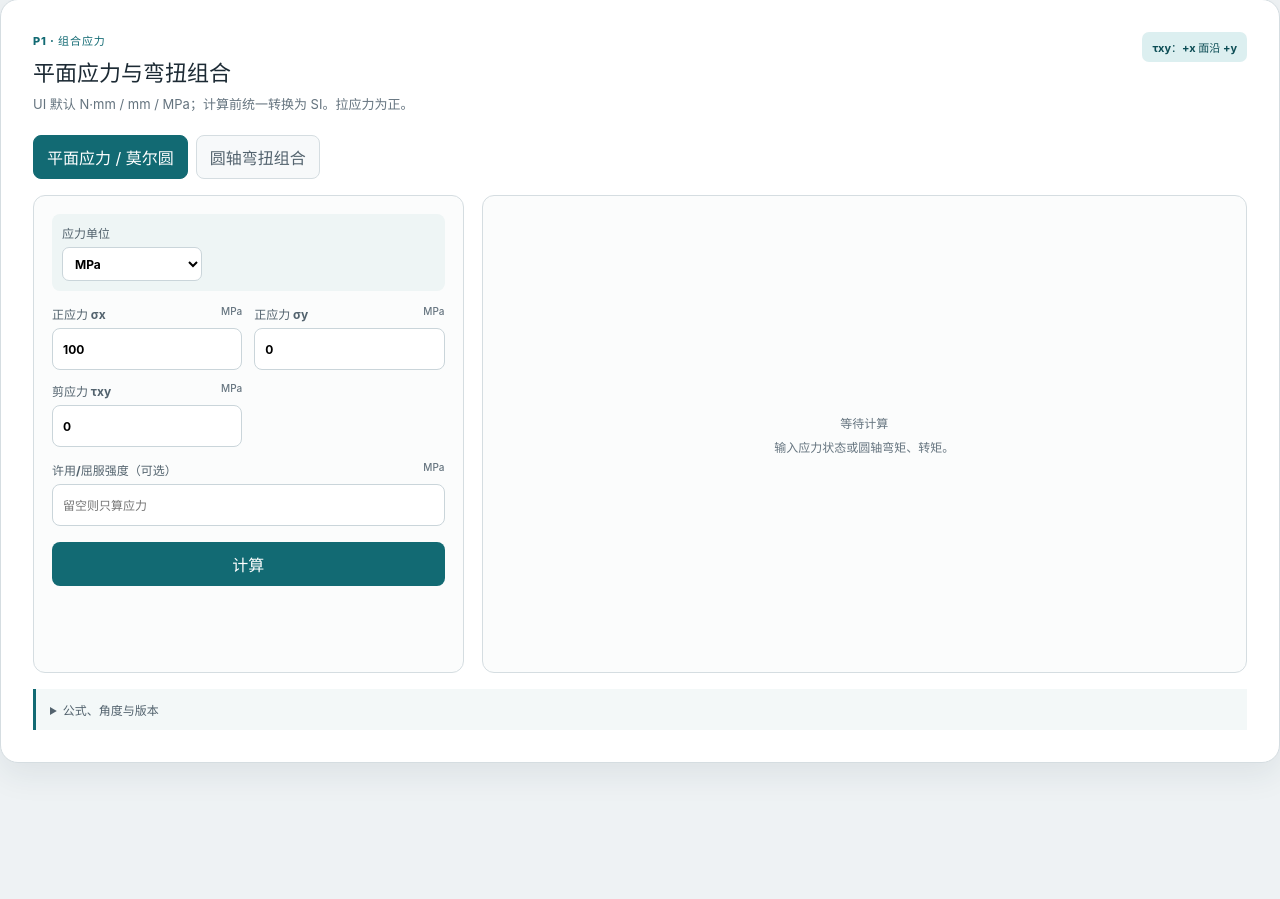
Test: StressCalculator › renders plane stress results and labelled Mohr circle
The width and height of the screenshot is (1280, 899).
Click the button with class "calculate": (248,564) [52,542,444,586]
(page scrolled)
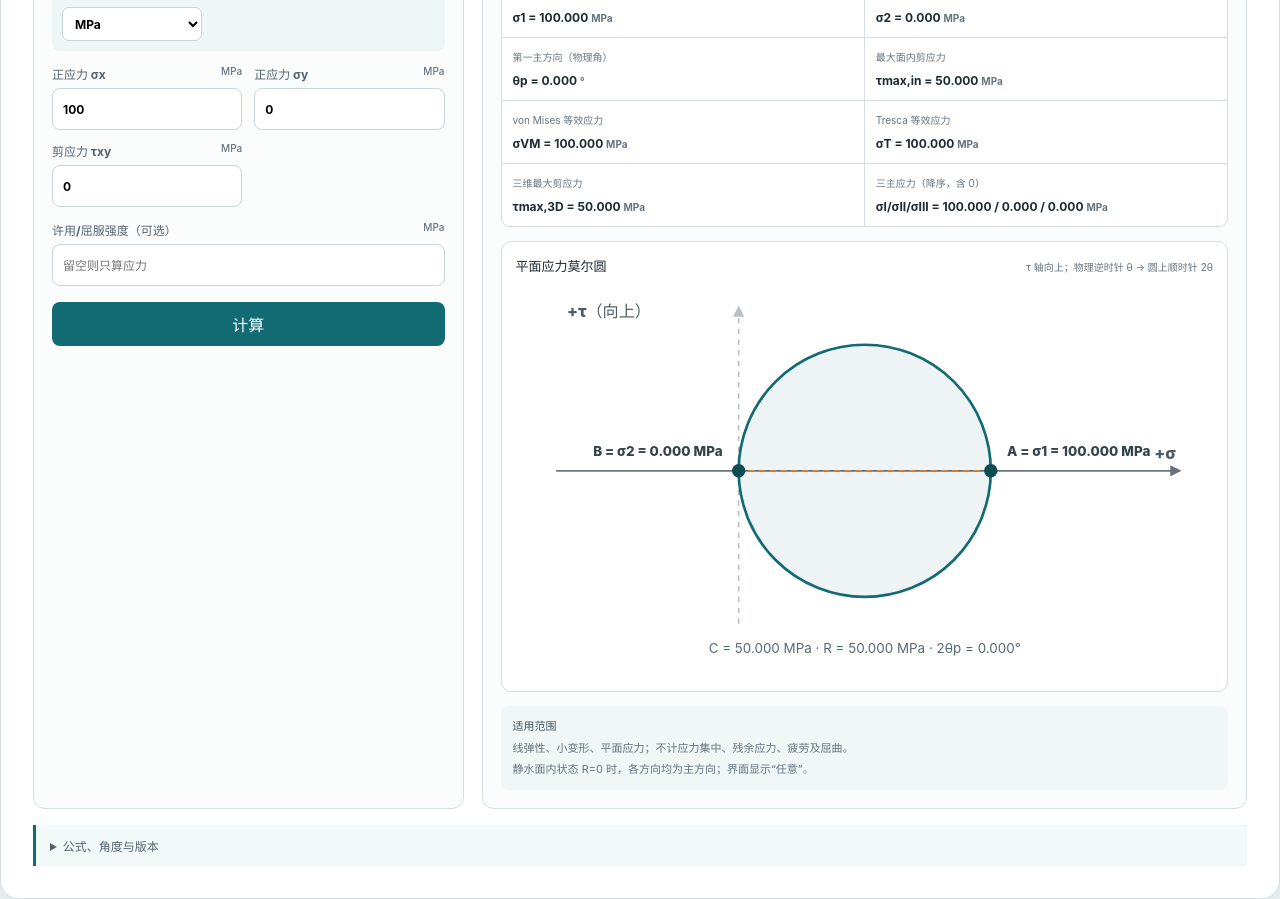
Expected: the text "σ1 = 100.000 MPa" is shown, [512,10,613,25]
Expected: the text "von Mises 等效应力" is shown, [512,114,603,126]
Expected: the text "A = σ1 = 100.000 MPa" is shown, [1006,443,1150,459]
